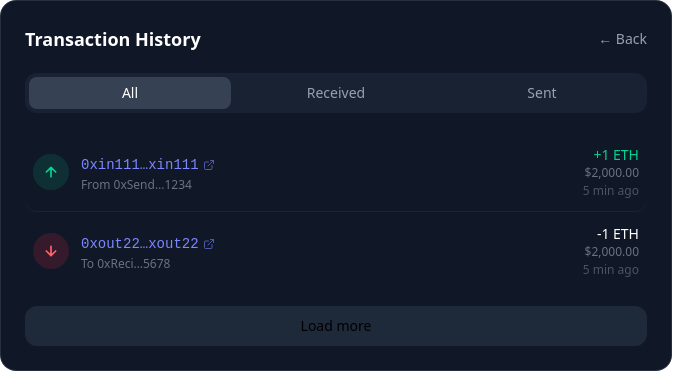
it: TxHistory — filter tabs › Sent tab shows only out-direction
Click the button "Sent" at (542, 93), box [441,77,643,109]
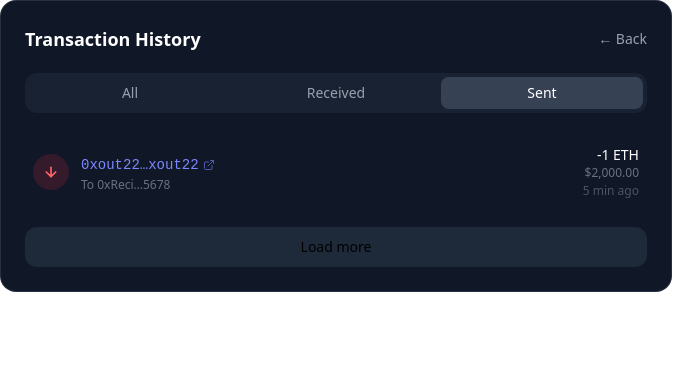
Expected: the text "0xout22" is shown, [81,155,215,175]
Expected: the text "0xin111" is gone
